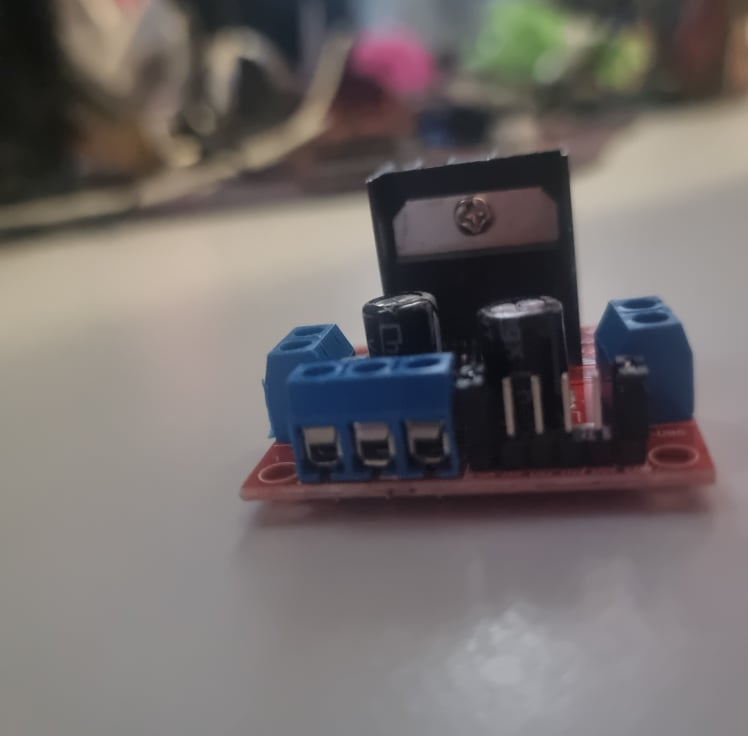MOTOR: (240, 149, 723, 510)
